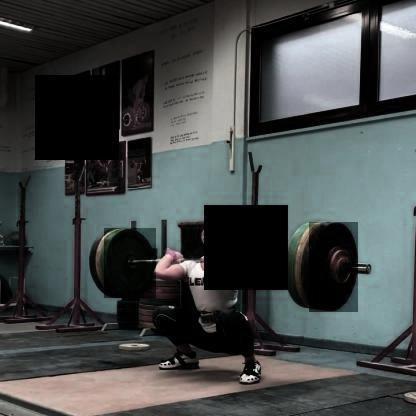barbell: (309, 223, 359, 313), (105, 229, 157, 299)
